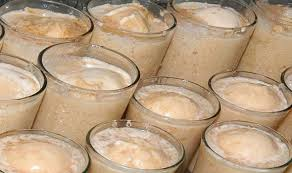jigirthanda: (44, 52, 122, 128), (89, 126, 184, 167), (216, 73, 289, 124), (139, 82, 211, 118), (94, 3, 171, 34), (5, 7, 83, 35), (176, 1, 245, 25)
